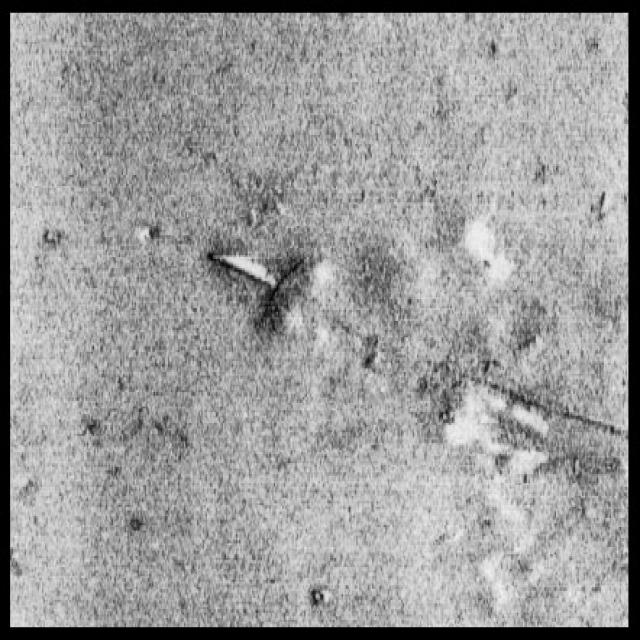other: (204, 215, 349, 358)
